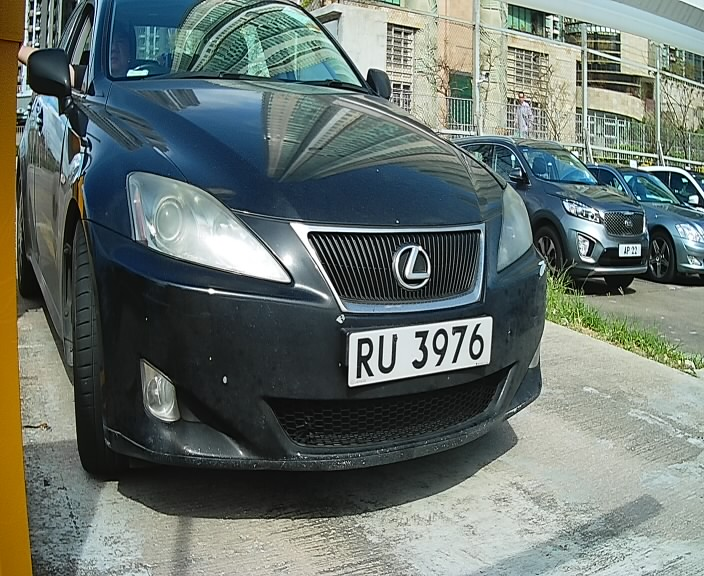Car: (3, 2, 576, 513)
License Plate: (341, 307, 504, 403)
